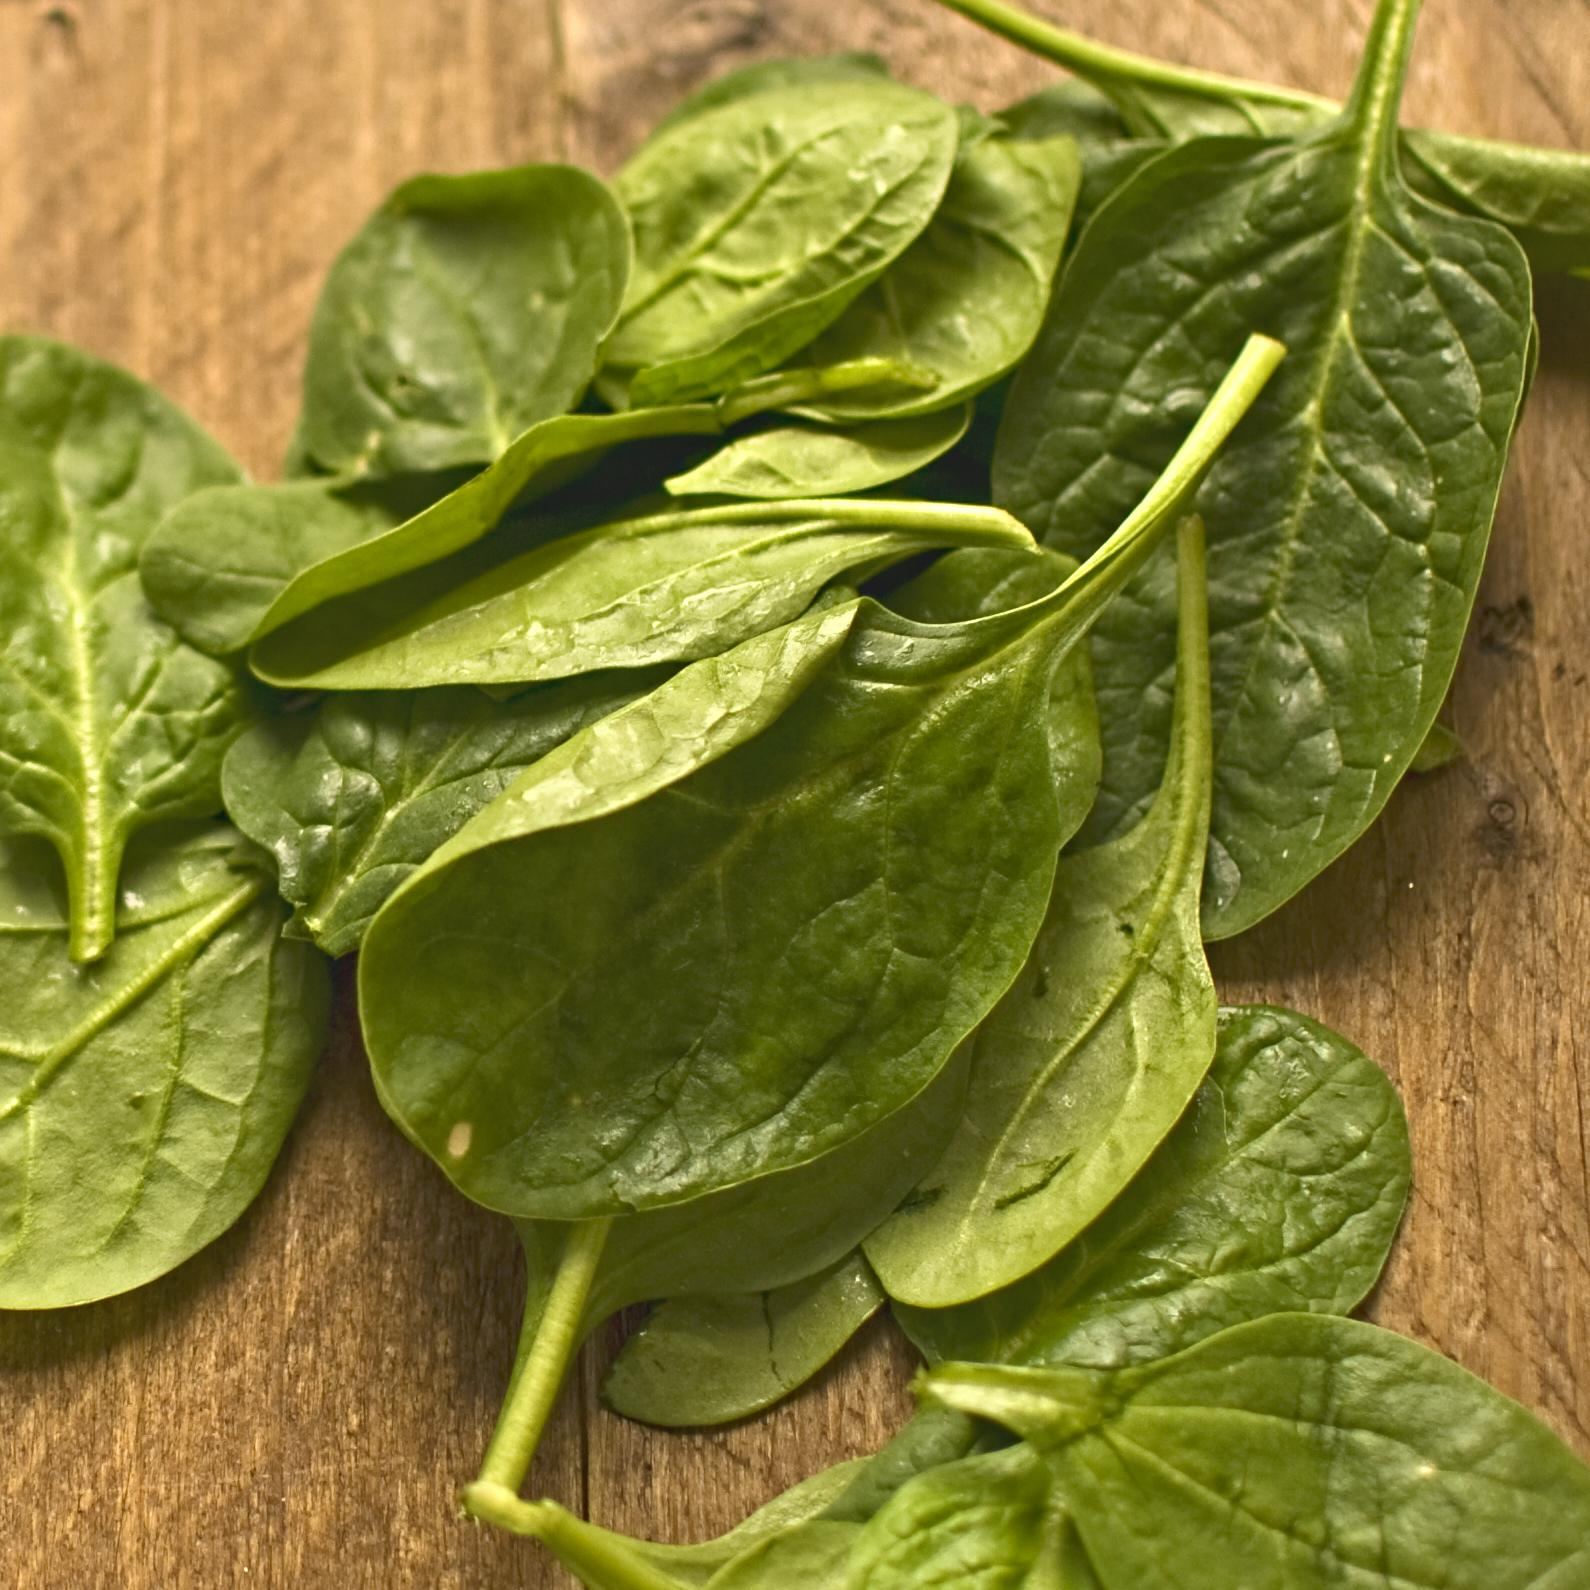spinach: (3, 4, 1584, 1584)
